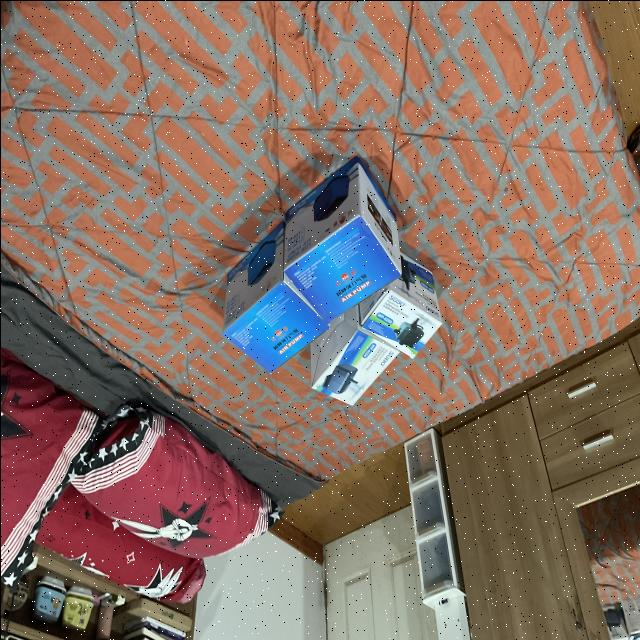SOBO_WP_4200: (300, 314, 406, 440), (359, 261, 441, 381)
YAMANO_LPP_20: (276, 154, 401, 336), (195, 224, 323, 382)
